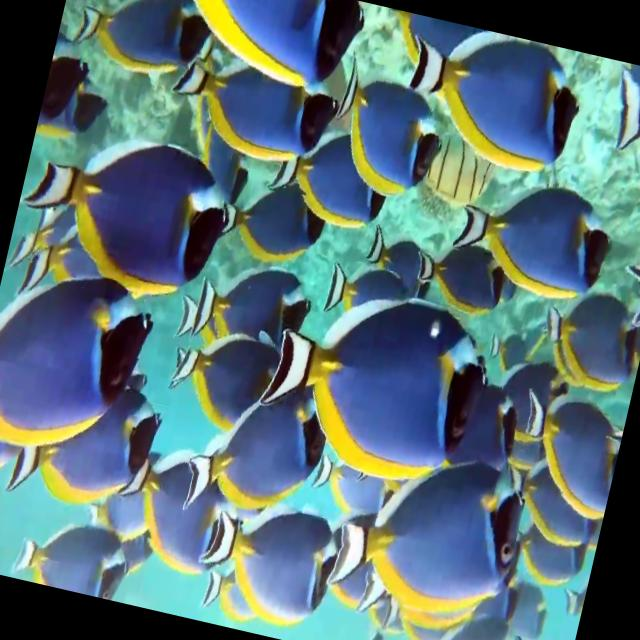fish: (248, 269, 498, 500), (2, 108, 244, 320), (317, 426, 535, 640), (386, 14, 594, 202), (0, 263, 159, 474), (440, 160, 623, 320), (160, 34, 346, 186), (2, 376, 164, 528), (150, 0, 367, 108), (316, 59, 458, 211), (120, 432, 254, 592), (500, 372, 631, 532), (213, 483, 349, 629), (527, 261, 640, 406), (188, 248, 318, 368), (165, 316, 286, 442), (66, 0, 220, 97), (268, 125, 396, 236), (216, 160, 332, 278), (5, 511, 138, 603), (589, 61, 640, 217), (35, 85, 119, 148), (38, 51, 96, 128), (424, 602, 533, 640)
